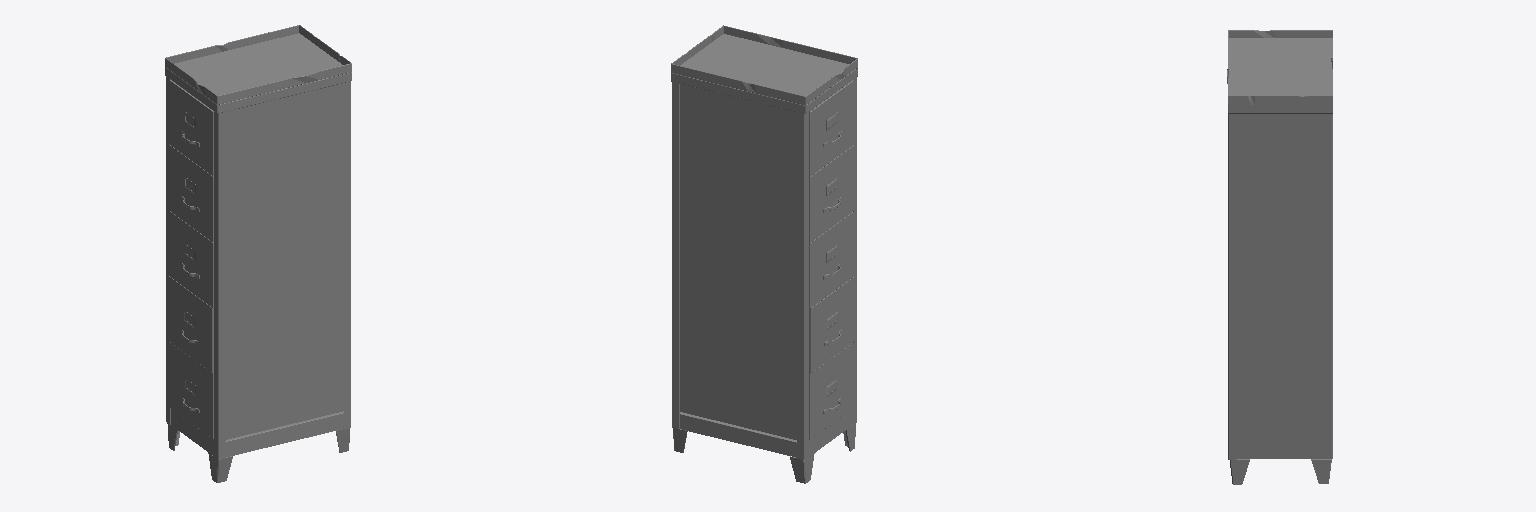
File: Closecabinet.obj
The picture shows the model from 3 angles: view 1: azimuth 30°, elevation 25°; view 2: azimuth 150°, elevation 25°; view 3: azimuth 270°, elevation 25°; orthographic projection.
Visible parts, largest first — view 1: body, shelf01, shelf00, shelf03, shelf02, shelf04; view 2: body, shelf01, shelf00, shelf02, shelf04, shelf03; view 3: body.
Boxes of the visible parts, box(x1,y1,x2,y2) form: body: box(165, 25, 351, 482); shelf01: box(169, 145, 213, 241); shelf00: box(169, 80, 213, 175); shelf03: box(169, 276, 213, 372); shelf02: box(170, 212, 213, 307); shelf04: box(170, 343, 213, 438); body: box(671, 25, 857, 483); shelf01: box(809, 145, 853, 242); shelf00: box(809, 80, 853, 176); shelf02: box(809, 212, 853, 308); shelf04: box(809, 343, 853, 439); shelf03: box(809, 277, 853, 373); body: box(1227, 30, 1332, 484).
Size of the model in its own units: 99.17 by 261 by 65.09.